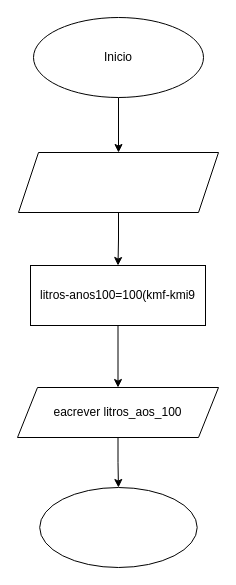
The diagram is 236 pixels wide and 585 high, and some of its shapes have lost their labels. Here are the shapes that lost their labels. From the top down, the centre of each, then its label:
At point (118, 182): "ler kmi,kmf,litros".
At point (118, 527): "Fim".
